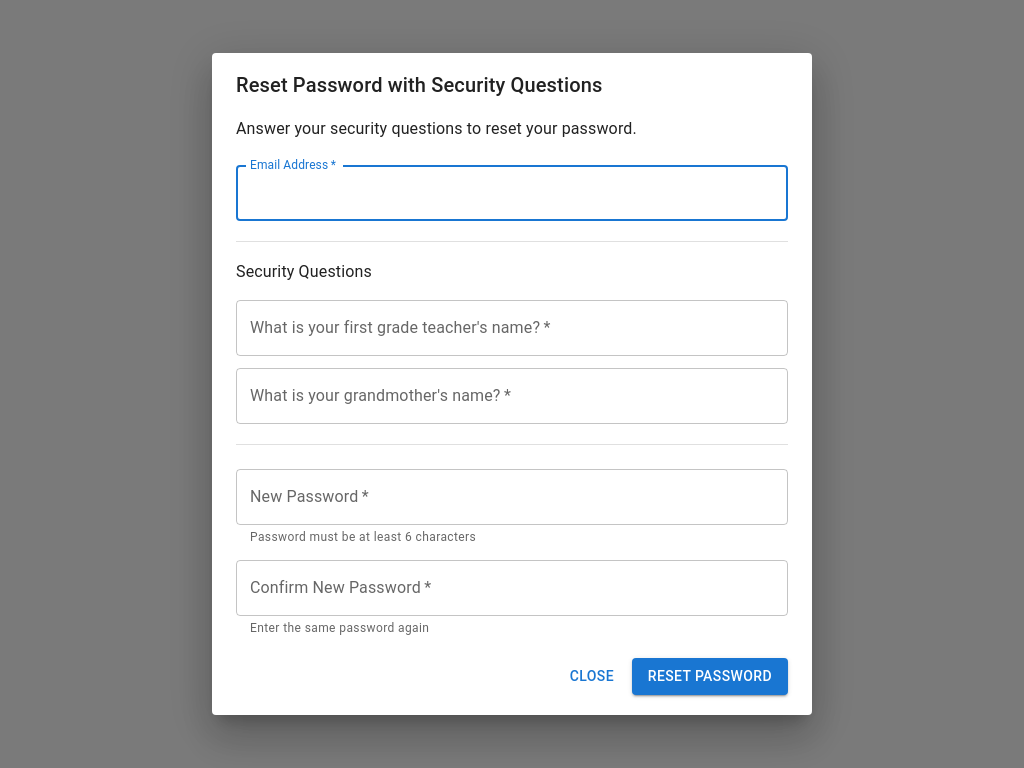
Test: ForgotPassword › shows error message when security answers are incorrect
expect the dialog is shown: met, box [212,53,812,715]
expect the password field named "newPassword" is shown: met, box [236,469,788,525]
Note: Fill in all required fields - use exact labels for non-password fields
Type "test@example.com" into the field labelled "Email Address *" at [512, 193], box [236,165,788,221]
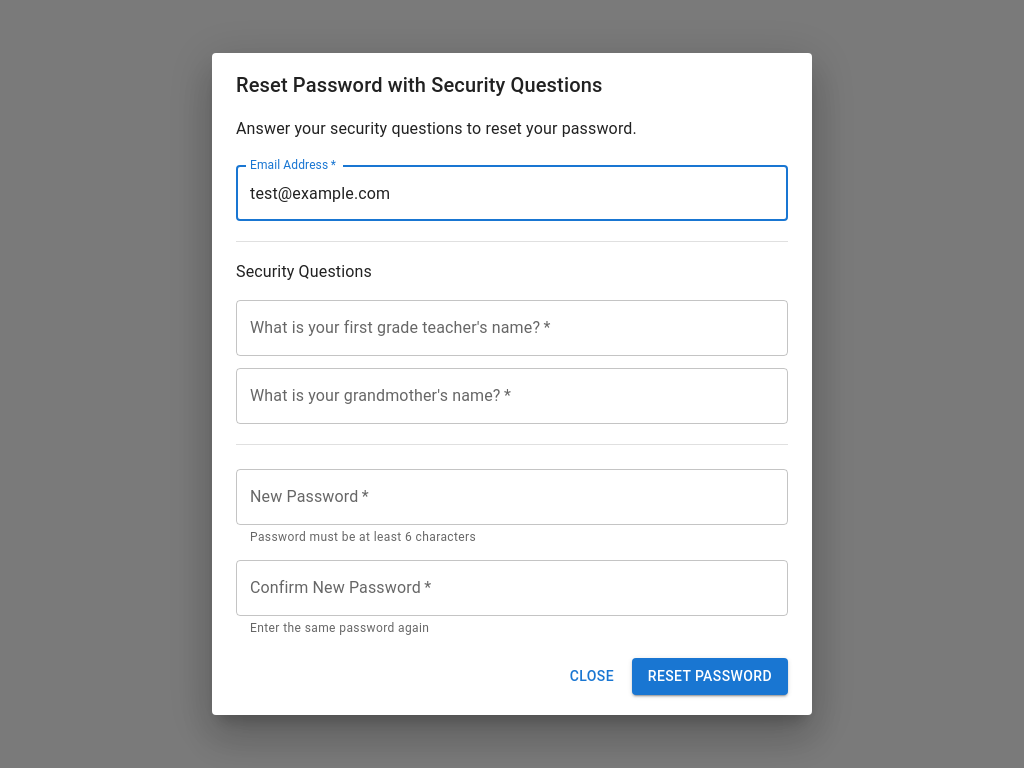
Type "Wrong Teacher" into the field labelled "What is your first grade teacher's name? *" at [512, 328], box [236,300,788,356]
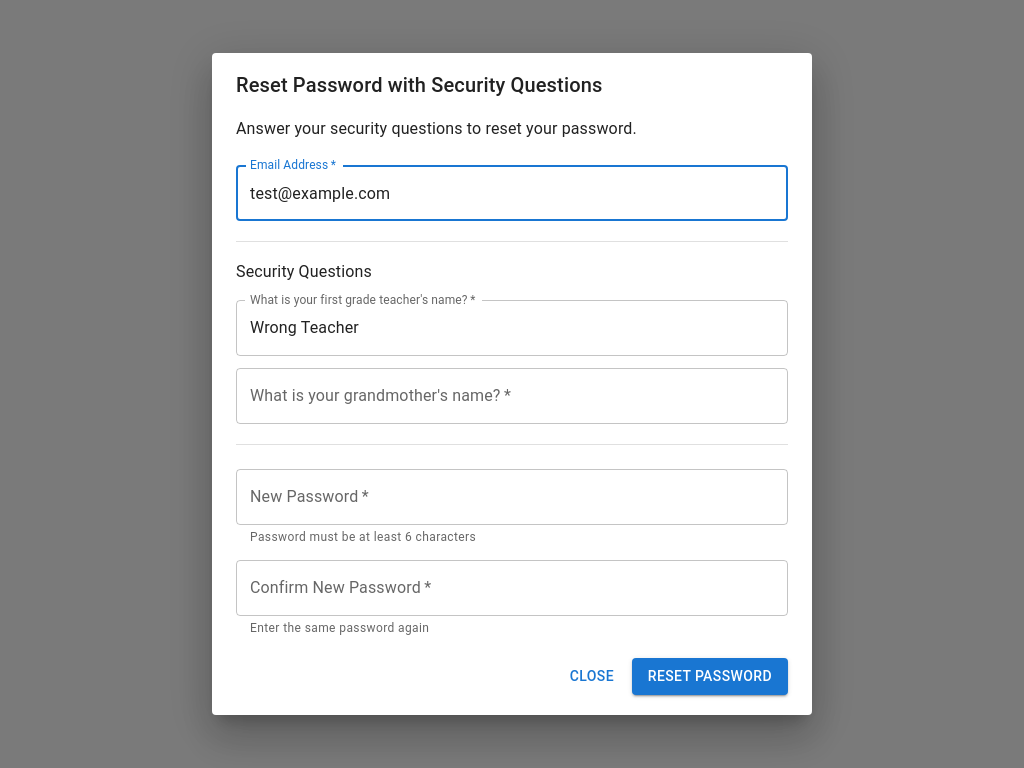
Type "Wrong Name" into the field labelled "What is your grandmother's name? *" at [512, 396], box [236,368,788,424]
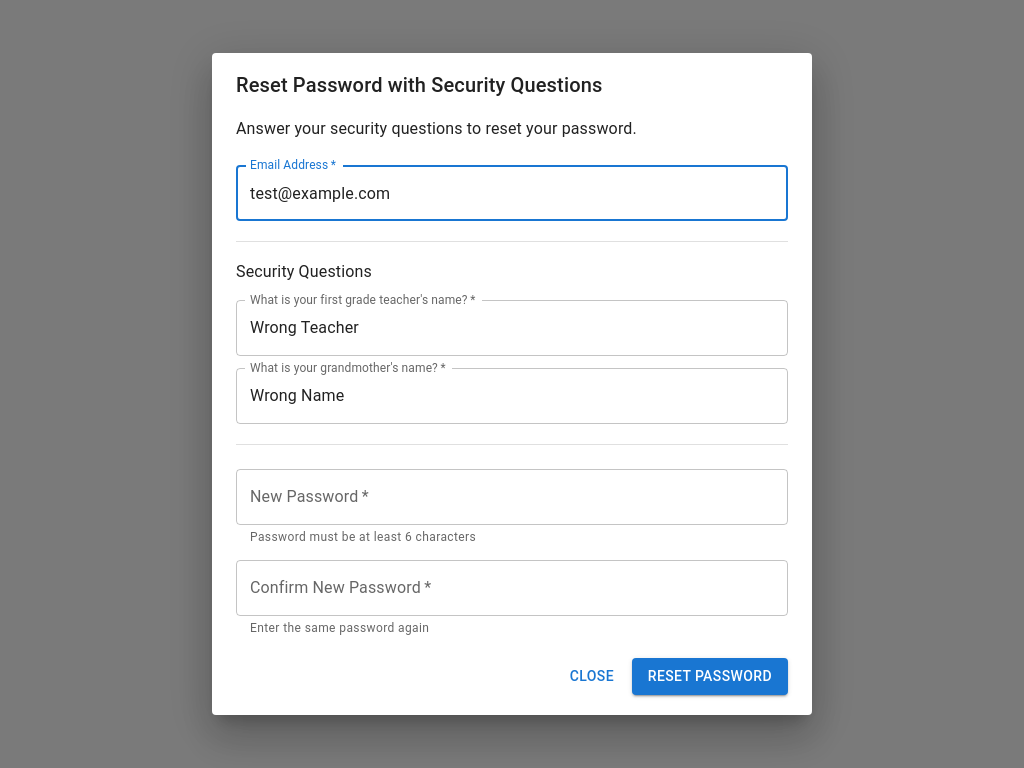
Type "newpassword123" into the password field named "newPassword" at [512, 497], box [236,469,788,525]
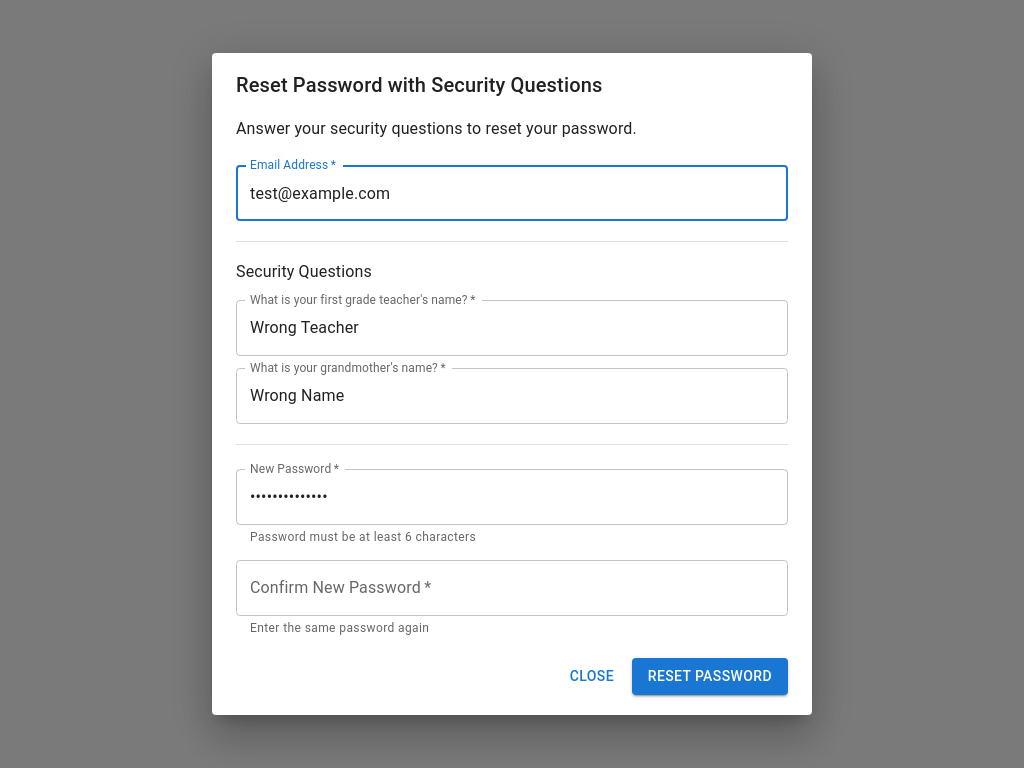
Type "newpassword123" into the password field named "confirmPassword" at [512, 588], box [236,560,788,616]
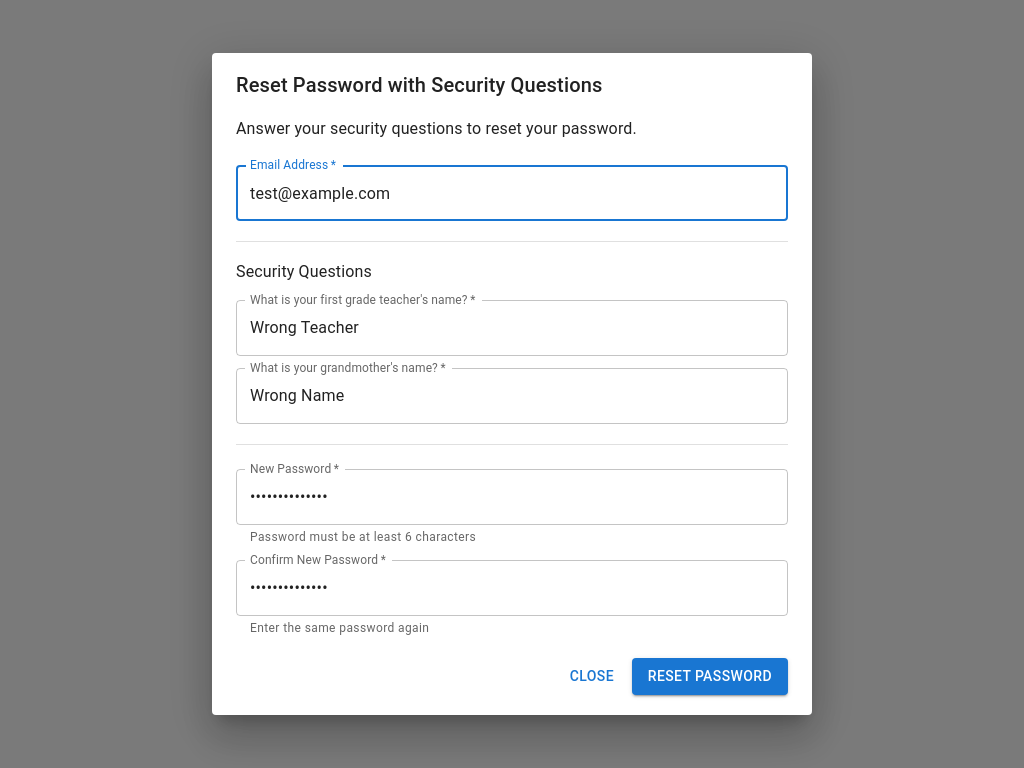
Note: Submit form
Click the button "Reset Password" at [710, 677], box [632,658,788,695]
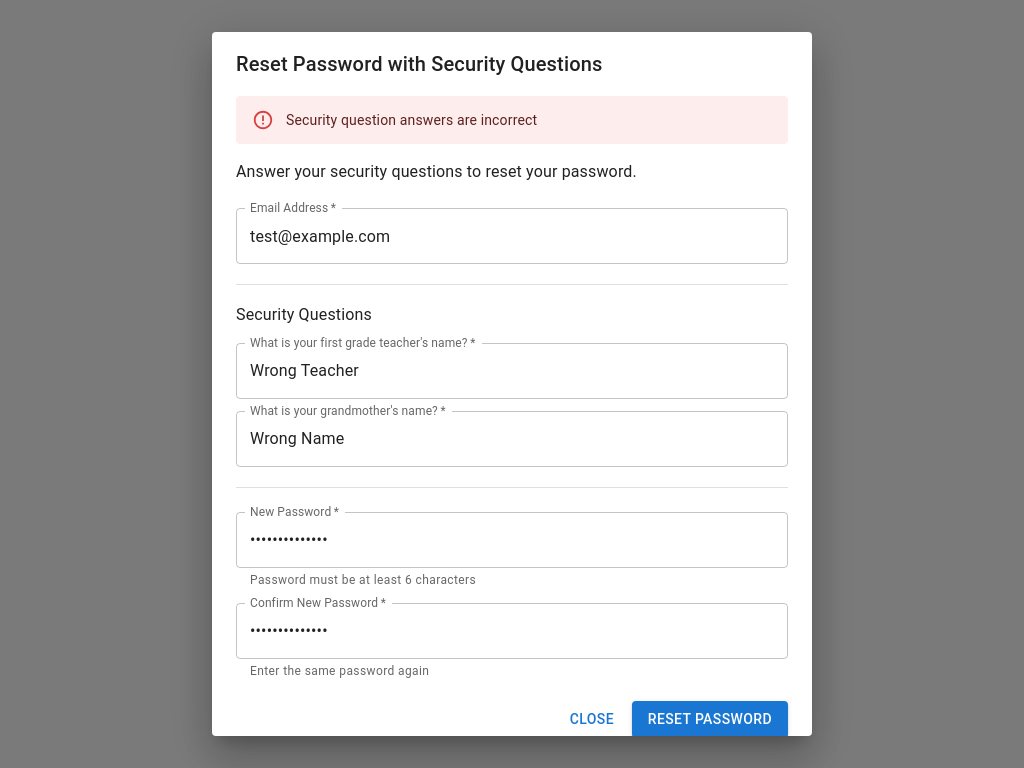
expect the text "Security question answers are incorrect" is shown: met, box [286,112,537,128]
